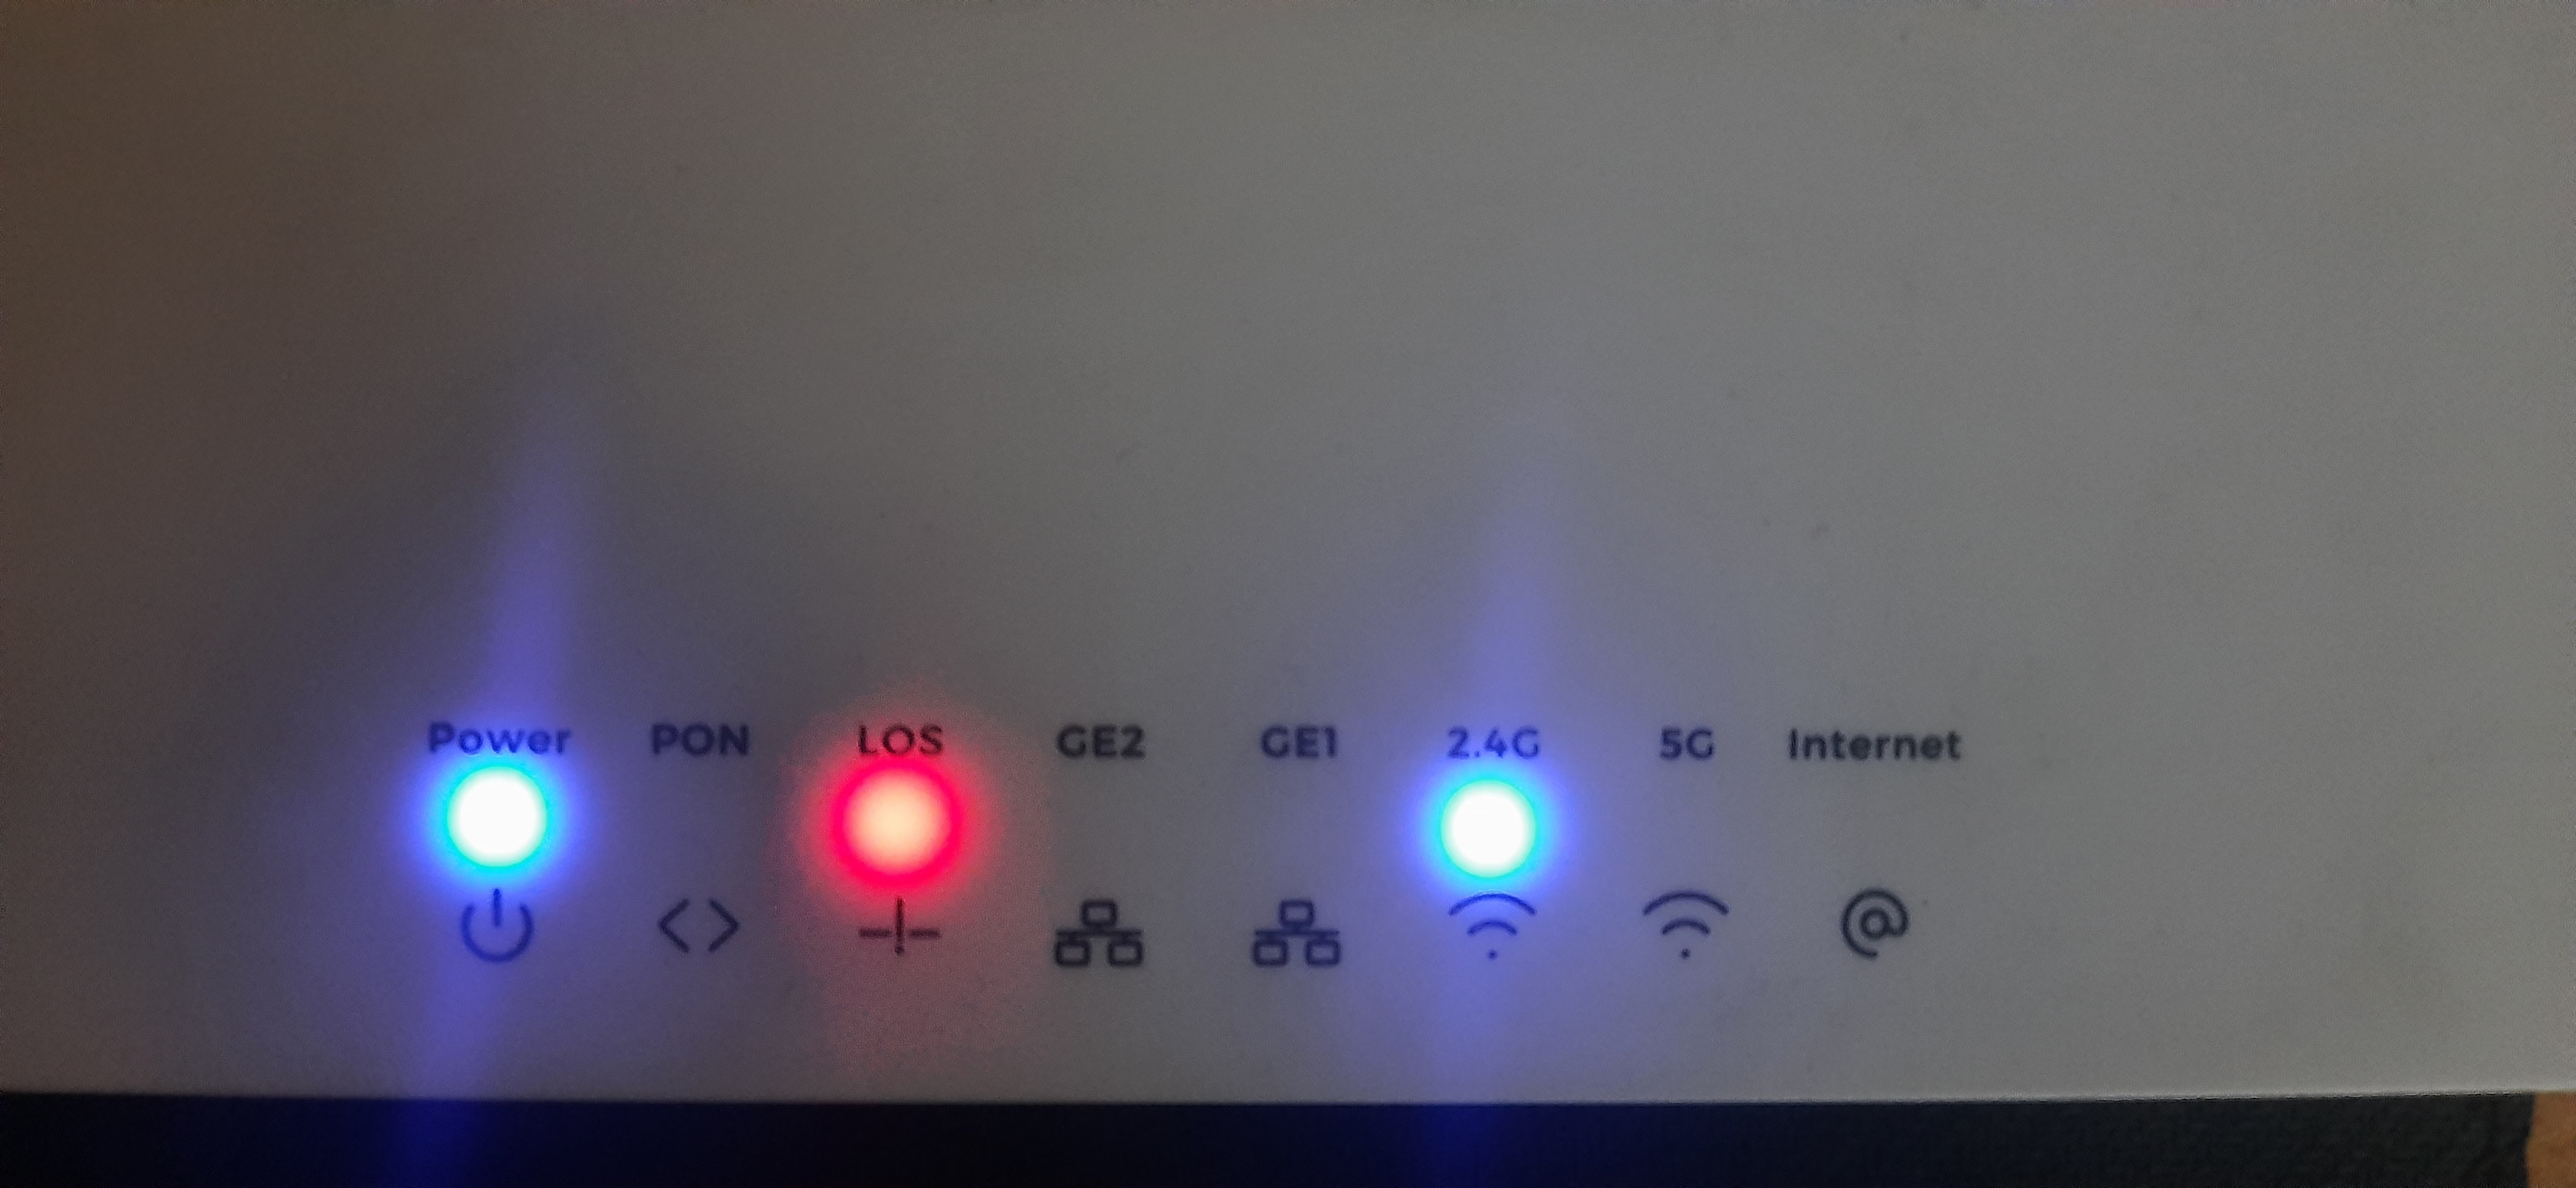LOSConnectionIssue: (805, 679, 1045, 1004)
